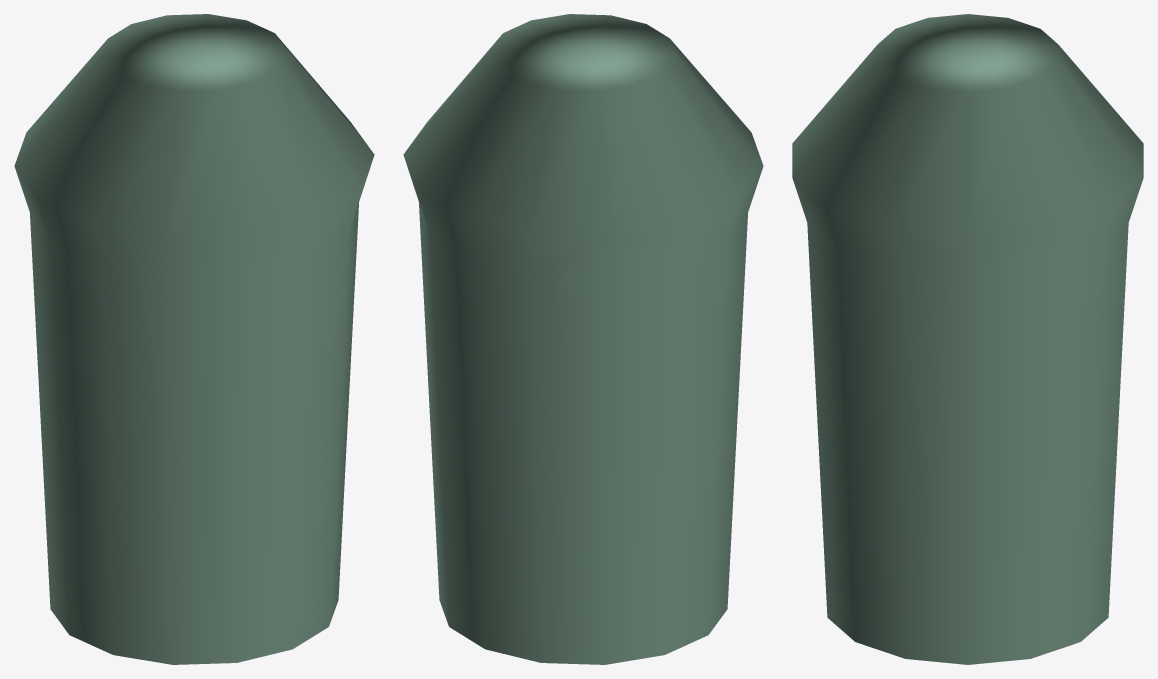
Rendered from urb_trash_bin.glb.
The picture shows the model from 3 angles, left to right: view 1: azimuth 30°, elevation 25°; view 2: azimuth 150°, elevation 25°; view 3: azimuth 270°, elevation 25°; orthographic projection.
Visible parts, largest first — view 1: bin; view 2: bin; view 3: bin.
Part boxes in pixels (box(x1,y1,x2,y2)): bin: box(14, 14, 374, 664); bin: box(403, 14, 763, 664); bin: box(792, 14, 1143, 664).
Size of the model in its own units: 0.7 by 1.18 by 0.6824.
